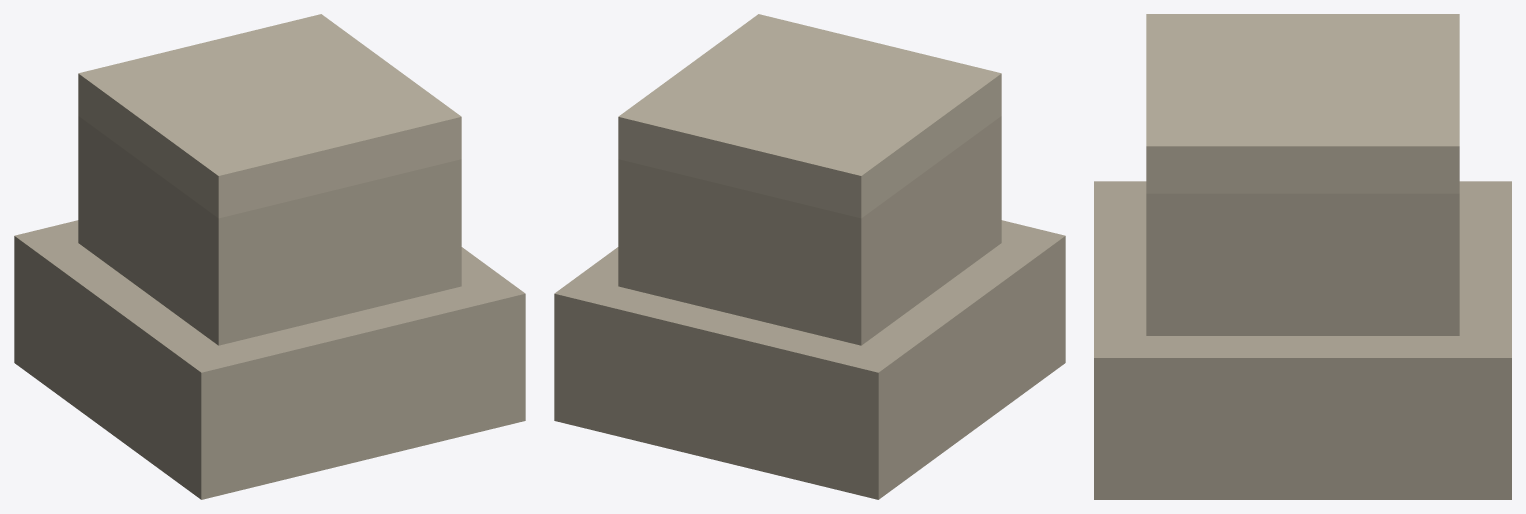
File: cuenco_01.glb
The picture shows the model from 3 angles, left to right: view 1: azimuth 30°, elevation 25°; view 2: azimuth 150°, elevation 25°; view 3: azimuth 270°, elevation 25°; orthographic projection. The views are drawn at different scales.
Visible parts, largest first — view 1: cuenco; view 2: cuenco; view 3: cuenco.
Part boxes in pixels (left/top/right/bottom): cuenco: left=14, top=14, right=525, bottom=499; cuenco: left=554, top=14, right=1065, bottom=499; cuenco: left=1094, top=14, right=1511, bottom=499.
Size of the model in its own units: 0.6667 by 0.5833 by 0.6667.
